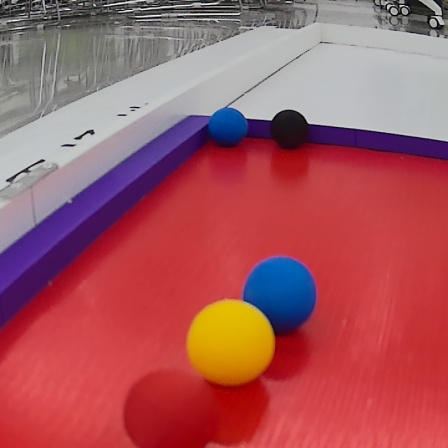black: (271, 108, 307, 153)
blue: (240, 256, 317, 334), (210, 108, 247, 148)
red: (122, 366, 204, 446)
red_aim: (2, 112, 448, 448)
yellow: (184, 299, 278, 388)
